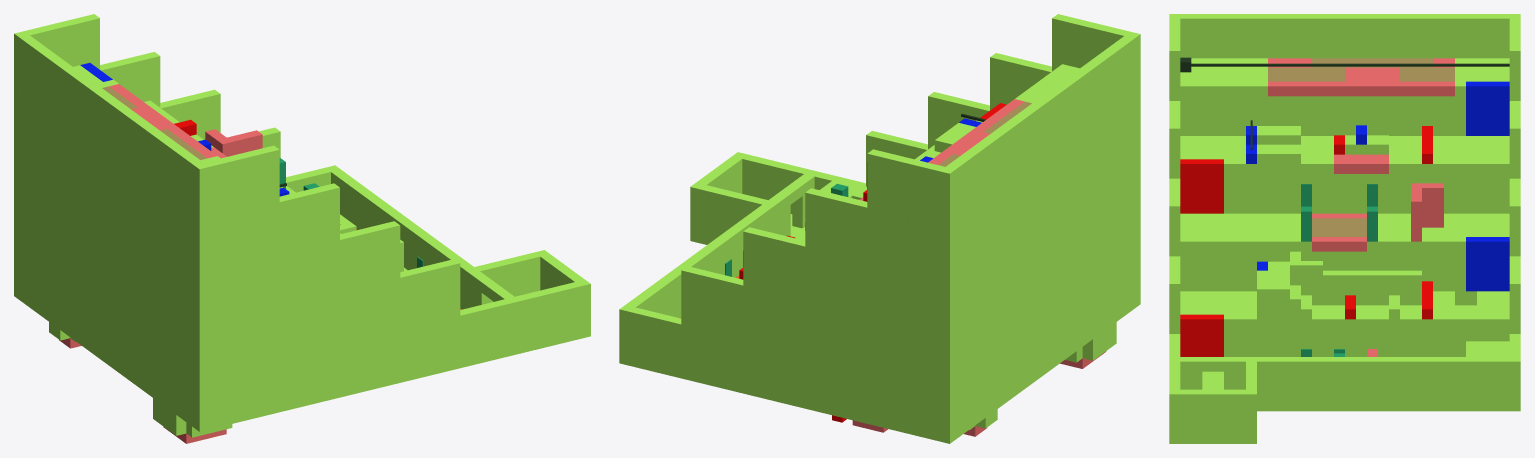
The model's file is stage2_set.FBX.
The picture shows the model from 3 angles, left to right: view 1: azimuth 30°, elevation 25°; view 2: azimuth 150°, elevation 25°; view 3: azimuth 270°, elevation 25°; orthographic projection. The views are drawn at different scales.
Parts seen in each view (by area): view 1: stage2_1, stage2_2, stage2_3, stage2_4, stage2_5, damageWall27, damageWall18; view 2: stage2_1, stage2_2, stage2_3, stage2_4, stage2_5, damageWall27; view 3: stage2_1, stage2_2, stage2_4, stage2_5, stage2_3, damageWall27, BlueWall5, RedWall7, BlueWall9, RedWall1, damageWall18, laser1 (+7 smaller).
Part boxes in pixels (x1,y1,x2,y2): stage2_1: (14,165,590,437); stage2_2: (14,127,460,379); stage2_3: (14,89,400,326); stage2_4: (14,52,339,274); stage2_5: (14,14,279,221); damageWall27: (109,84,216,158); damageWall18: (205,129,262,156); stage2_1: (619,152,1140,443); stage2_2: (681,131,1140,389); stage2_3: (743,92,1140,335); stage2_4: (805,53,1140,281); stage2_5: (867,14,1140,227); damageWall27: (928,99,1024,164); stage2_1: (1169,301,1520,443); stage2_2: (1169,251,1520,333); stage2_4: (1169,96,1520,178); stage2_5: (1169,14,1520,100); stage2_3: (1169,174,1520,256); damageWall27: (1268,67,1454,96); BlueWall5: (1466,237,1509,291); RedWall7: (1180,159,1223,213); BlueWall9: (1466,81,1509,135); RedWall1: (1180,314,1223,356); damageWall18: (1411,183,1443,241); laser1: (1191,63,1509,66).
Size of the model in its own units: 1689 by 1213 by 1386.
